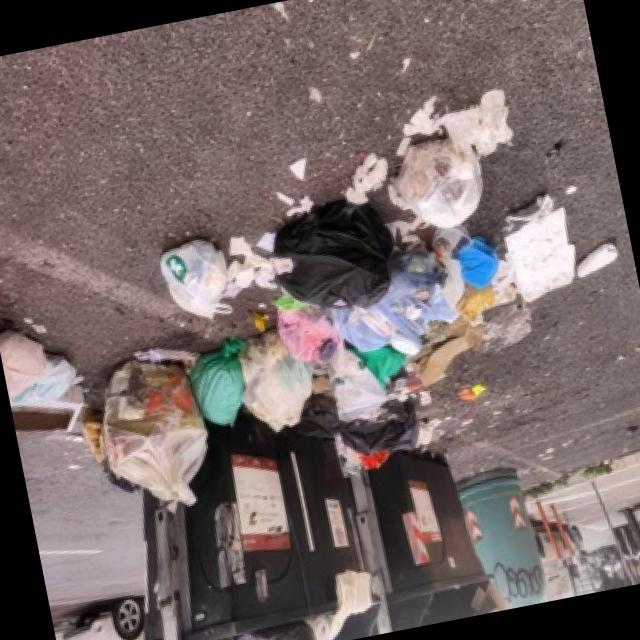high trash: (97, 90, 616, 505)
less trash: (0, 331, 75, 406)
